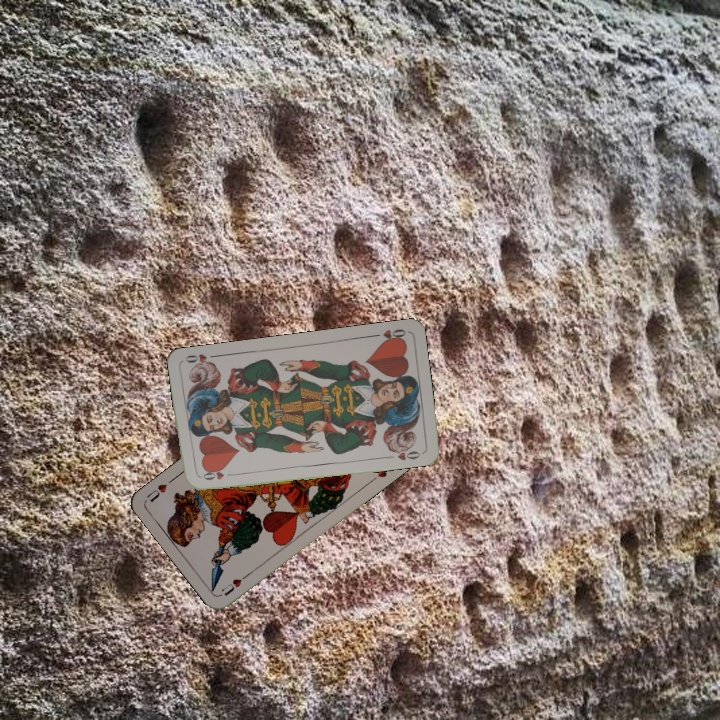HO: (368, 325, 408, 345), (196, 468, 237, 483)
HU: (217, 569, 252, 599)
